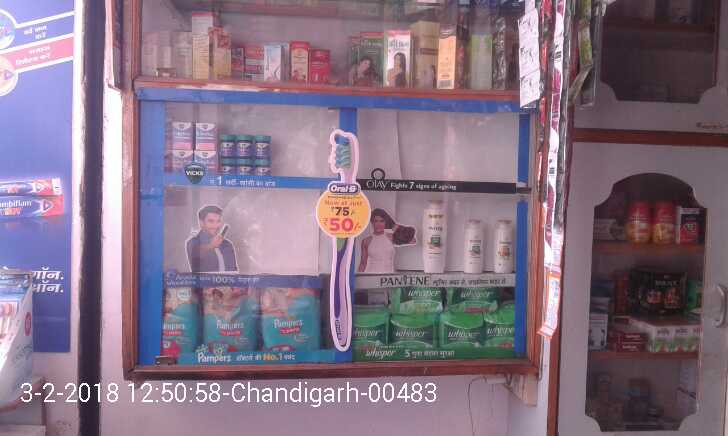beauty: (421, 199, 448, 273), (464, 220, 488, 275), (494, 221, 518, 270)
pharmacy: (255, 286, 321, 357), (205, 286, 252, 355), (160, 288, 201, 355), (392, 313, 438, 349), (443, 312, 484, 350), (350, 309, 387, 345), (454, 280, 500, 306), (482, 310, 513, 348), (393, 290, 451, 307), (191, 150, 224, 175), (170, 118, 190, 151), (255, 156, 279, 182), (196, 121, 217, 149), (237, 129, 251, 161), (236, 157, 254, 177), (219, 133, 234, 156), (254, 136, 271, 156), (168, 149, 188, 166), (220, 156, 235, 174)
